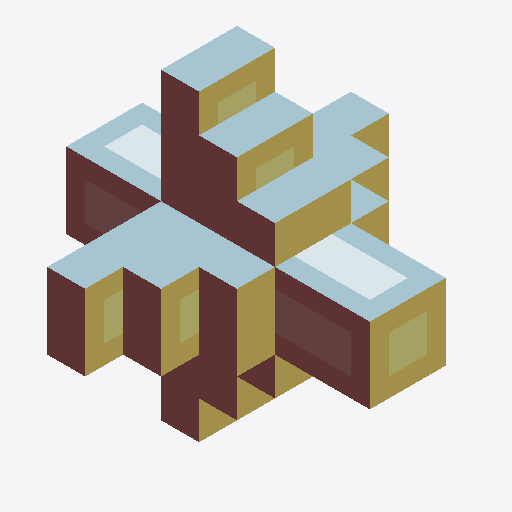
Isometric view (azimuth 45°, elevation 35.3°) of a Minecraft model made of 13 cuboids, textured from the same repository.
Visible parts, largest first — element 1, element 10, element 2, element 8, element 4, element 6, element 9, element 3, element 13, element 5, element 11, element 7 (+1 smaller).
Boxes of the visible parts, x1,y1,x2,y2 form: element 1: [66, 103, 445, 408]; element 10: [161, 26, 274, 222]; element 2: [47, 201, 197, 375]; element 8: [199, 92, 312, 244]; element 4: [123, 223, 235, 375]; element 6: [199, 245, 274, 375]; element 9: [237, 158, 350, 266]; element 3: [313, 92, 388, 156]; element 13: [161, 355, 236, 441]; element 5: [313, 136, 388, 200]; element 11: [199, 355, 274, 419]; element 7: [351, 180, 388, 244].
Bounding box in the file's own units: 16 × 16 × 16.